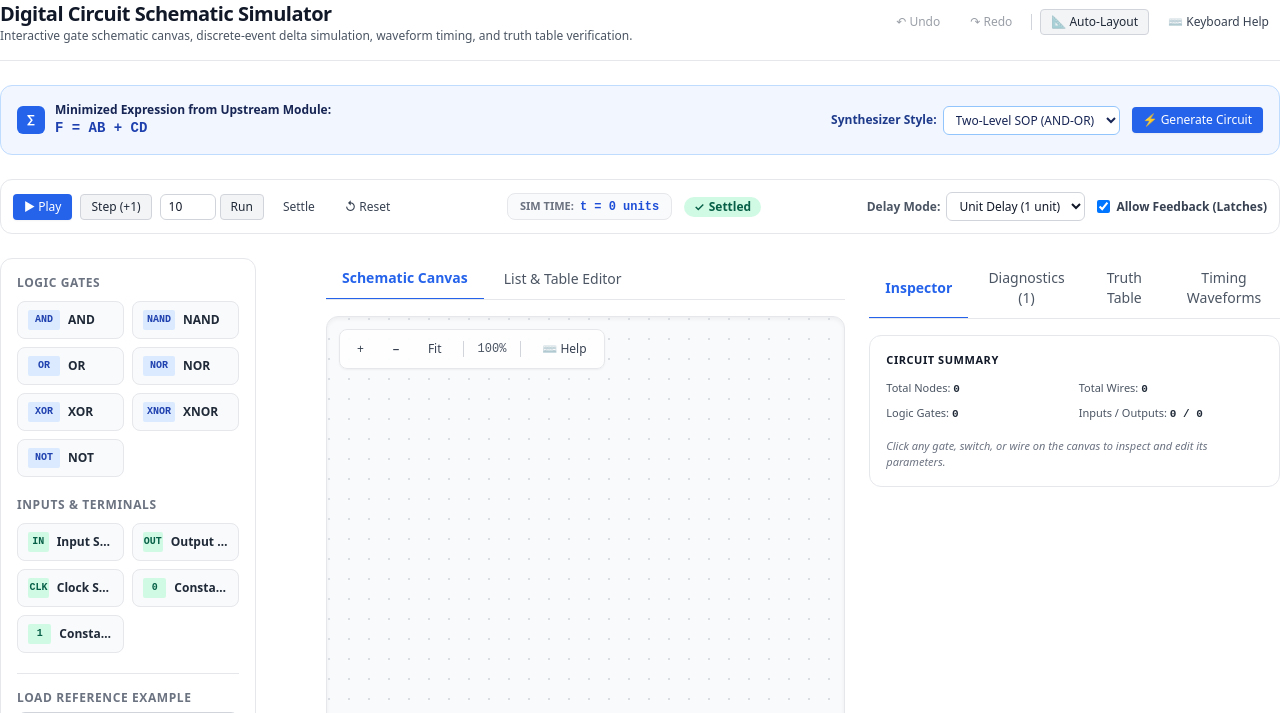
Test case: CircuitPage integration › renders CircuitPage, synthesizes circuit from K-Map SOP, and matches truth table
Expected: the text "Minimized Expression from Upstream Module:" is shown, [55,101,331,118]
Note: Click "Generate Circuit"
Click the button with aria-label "Generate circuit schematic": (1197, 120) [1132,107,1263,133]
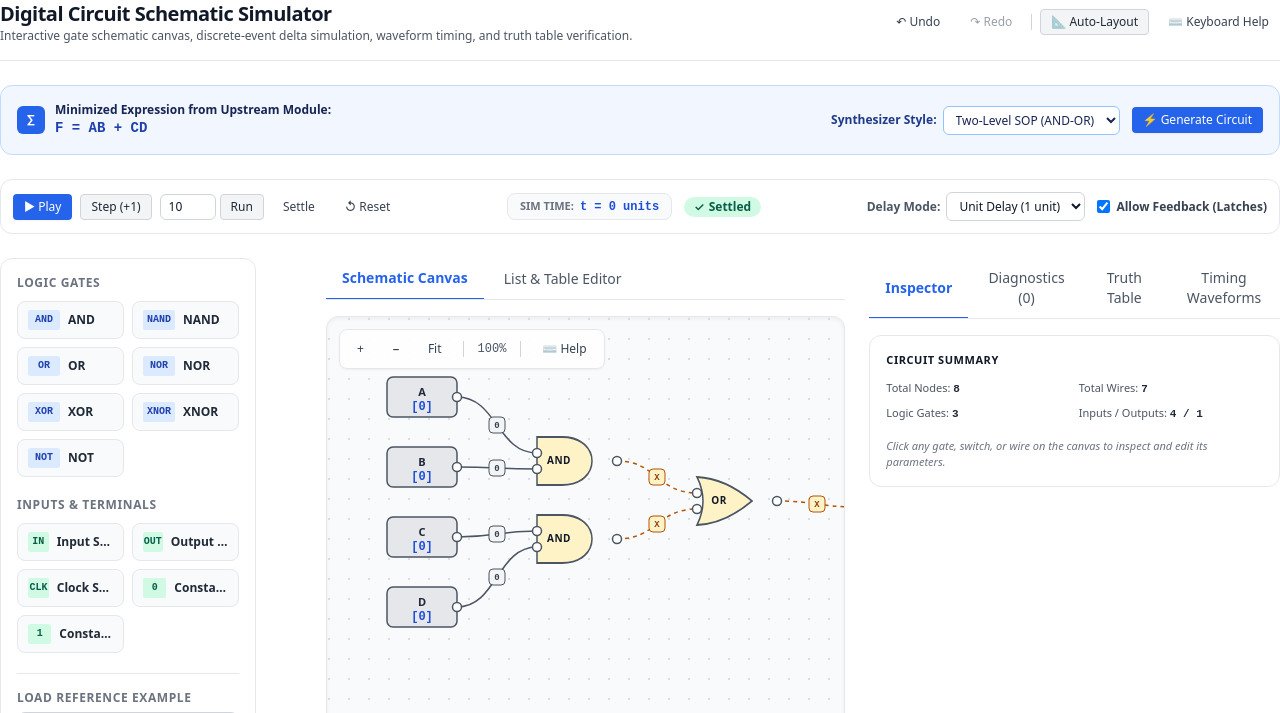
Note: Switch to Truth Table tab to verify match
Click the tab "Truth Table": (1124, 288) [1085,258,1164,318]
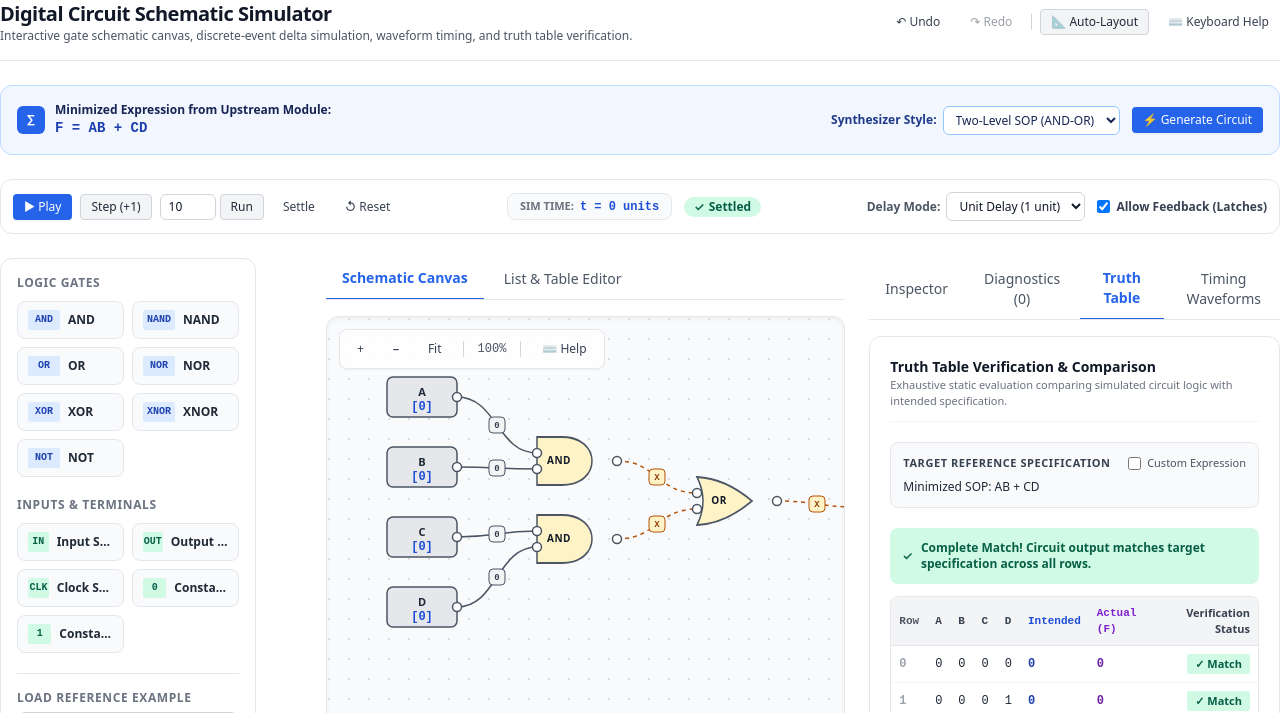
Now the text "Complete Match!" is shown, box [921,539,1205,572]
